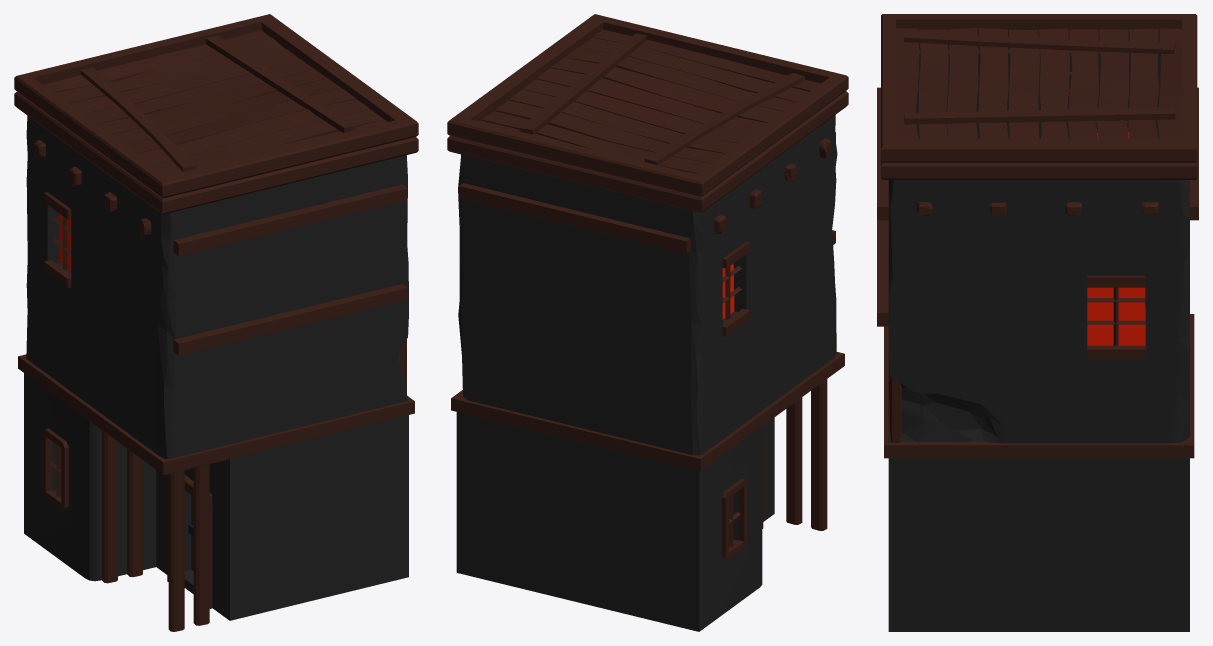
File: civilian_house_43.FBX
The picture shows the model from 3 angles, left to right: view 1: azimuth 30°, elevation 25°; view 2: azimuth 150°, elevation 25°; view 3: azimuth 270°, elevation 25°; orthographic projection. The views are drawn at different scales.
Visible parts, largest first — view 1: civilian_house_43; view 2: civilian_house_43; view 3: civilian_house_43.
Part boxes in pixels (x1,y1,x2,y2): civilian_house_43: (14,14,418,631); civilian_house_43: (447,14,848,631); civilian_house_43: (877,14,1198,631).
Bounding box in the file's own units: 528 × 895 × 534.
